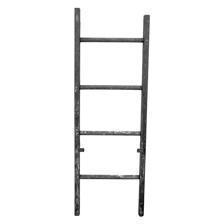Hand: (7, 79, 147, 184), (88, 49, 205, 122)
